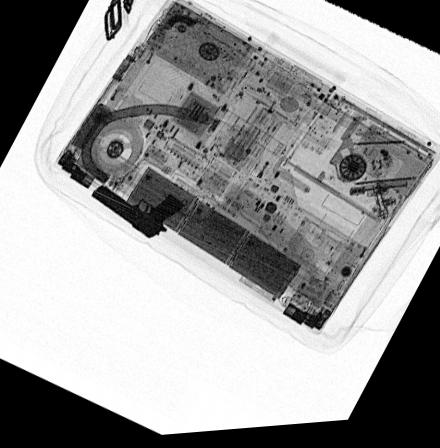Gun: (91, 186, 181, 242)
